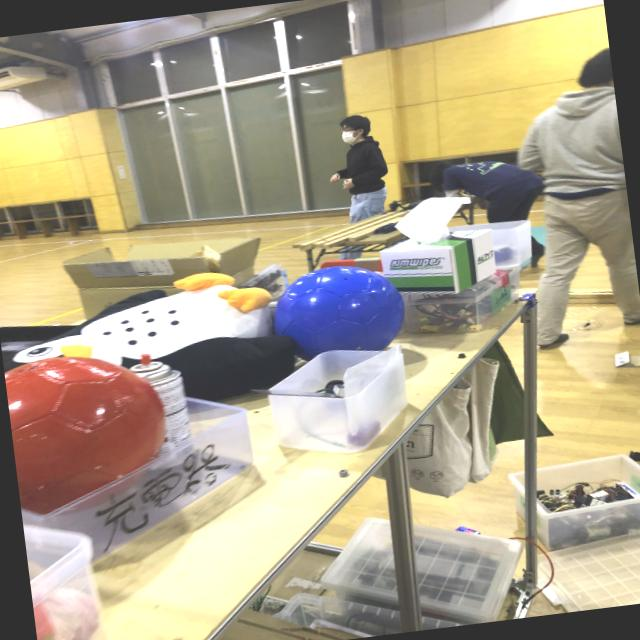blue_ball: (264, 259, 410, 374)
red_ball: (2, 342, 180, 518)
